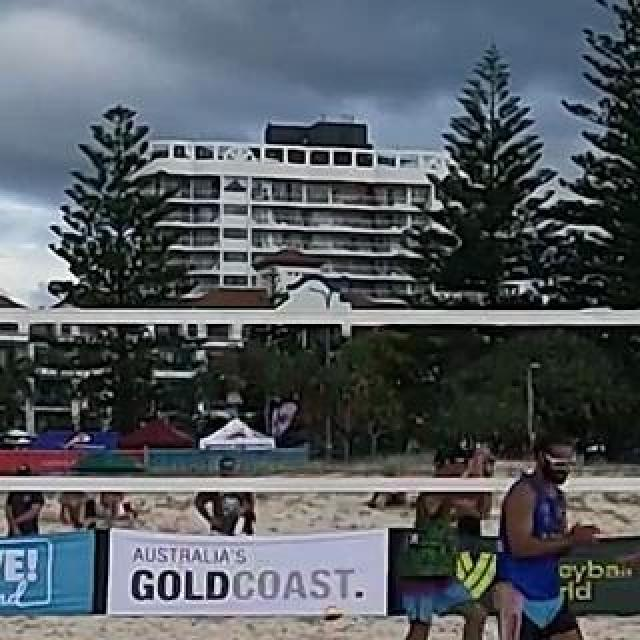volleyball: (324, 605, 344, 625)
